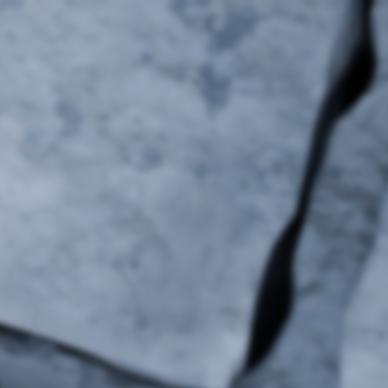brick: (0, 0, 346, 387), (339, 188, 387, 387)
crack: (229, 0, 387, 386), (0, 321, 191, 387)
